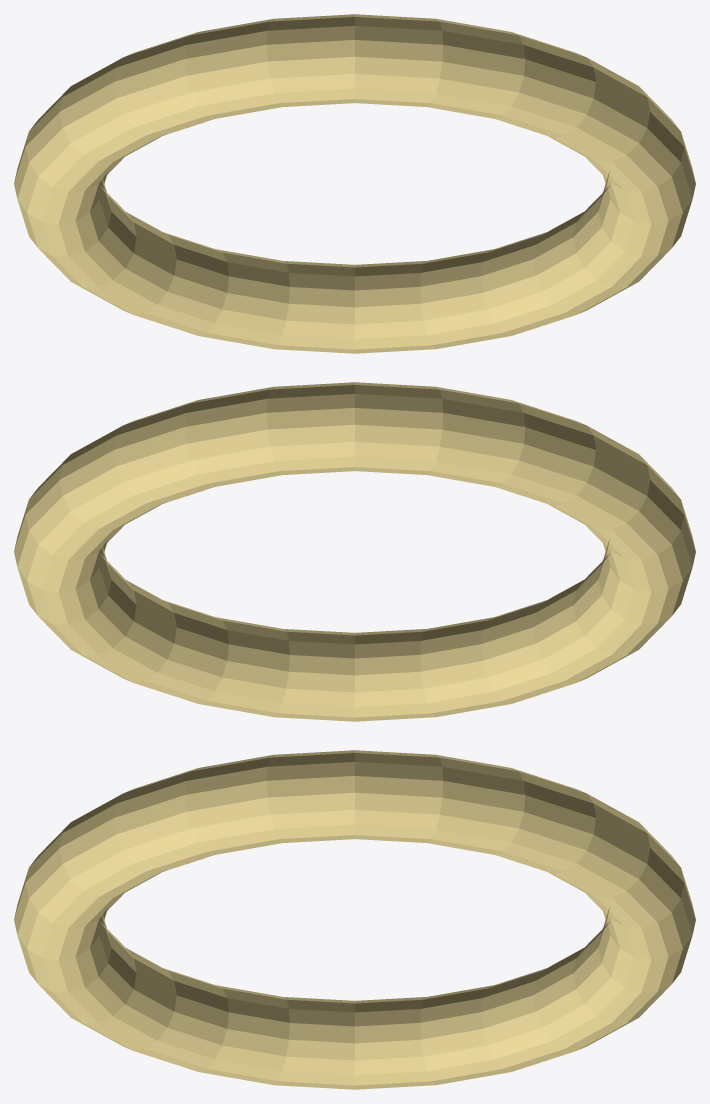
The model's file is earring-hoop.glb.
3 views of the same model, one above another, from view 1: azimuth 30°, elevation 25°; view 2: azimuth 150°, elevation 25°; view 3: azimuth 270°, elevation 25° (orthographic).
Parts seen in each view (by area): view 1: earring-hoop; view 2: earring-hoop; view 3: earring-hoop.
Part boxes in pixels (left/top/right/bottom): earring-hoop: left=14, top=14, right=695, bottom=353; earring-hoop: left=14, top=382, right=695, bottom=721; earring-hoop: left=14, top=750, right=695, bottom=1089.
Bounding box in the file's own units: 0.184 × 0.024 × 0.184.
